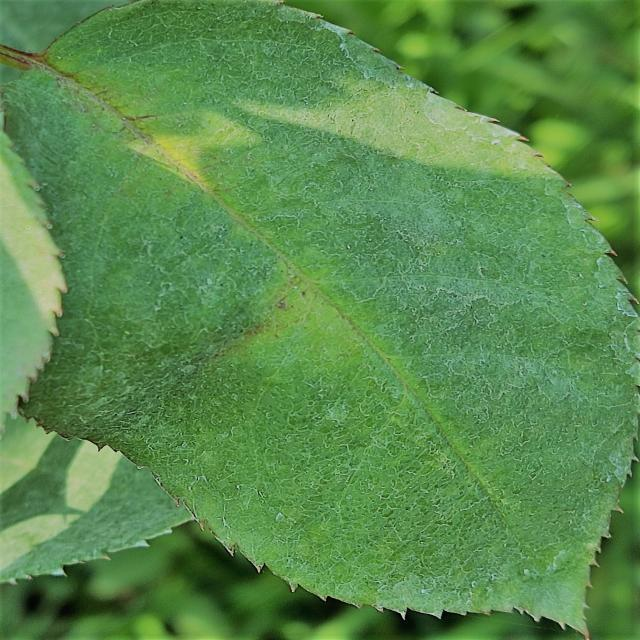Rose: (1, 0, 638, 635)
